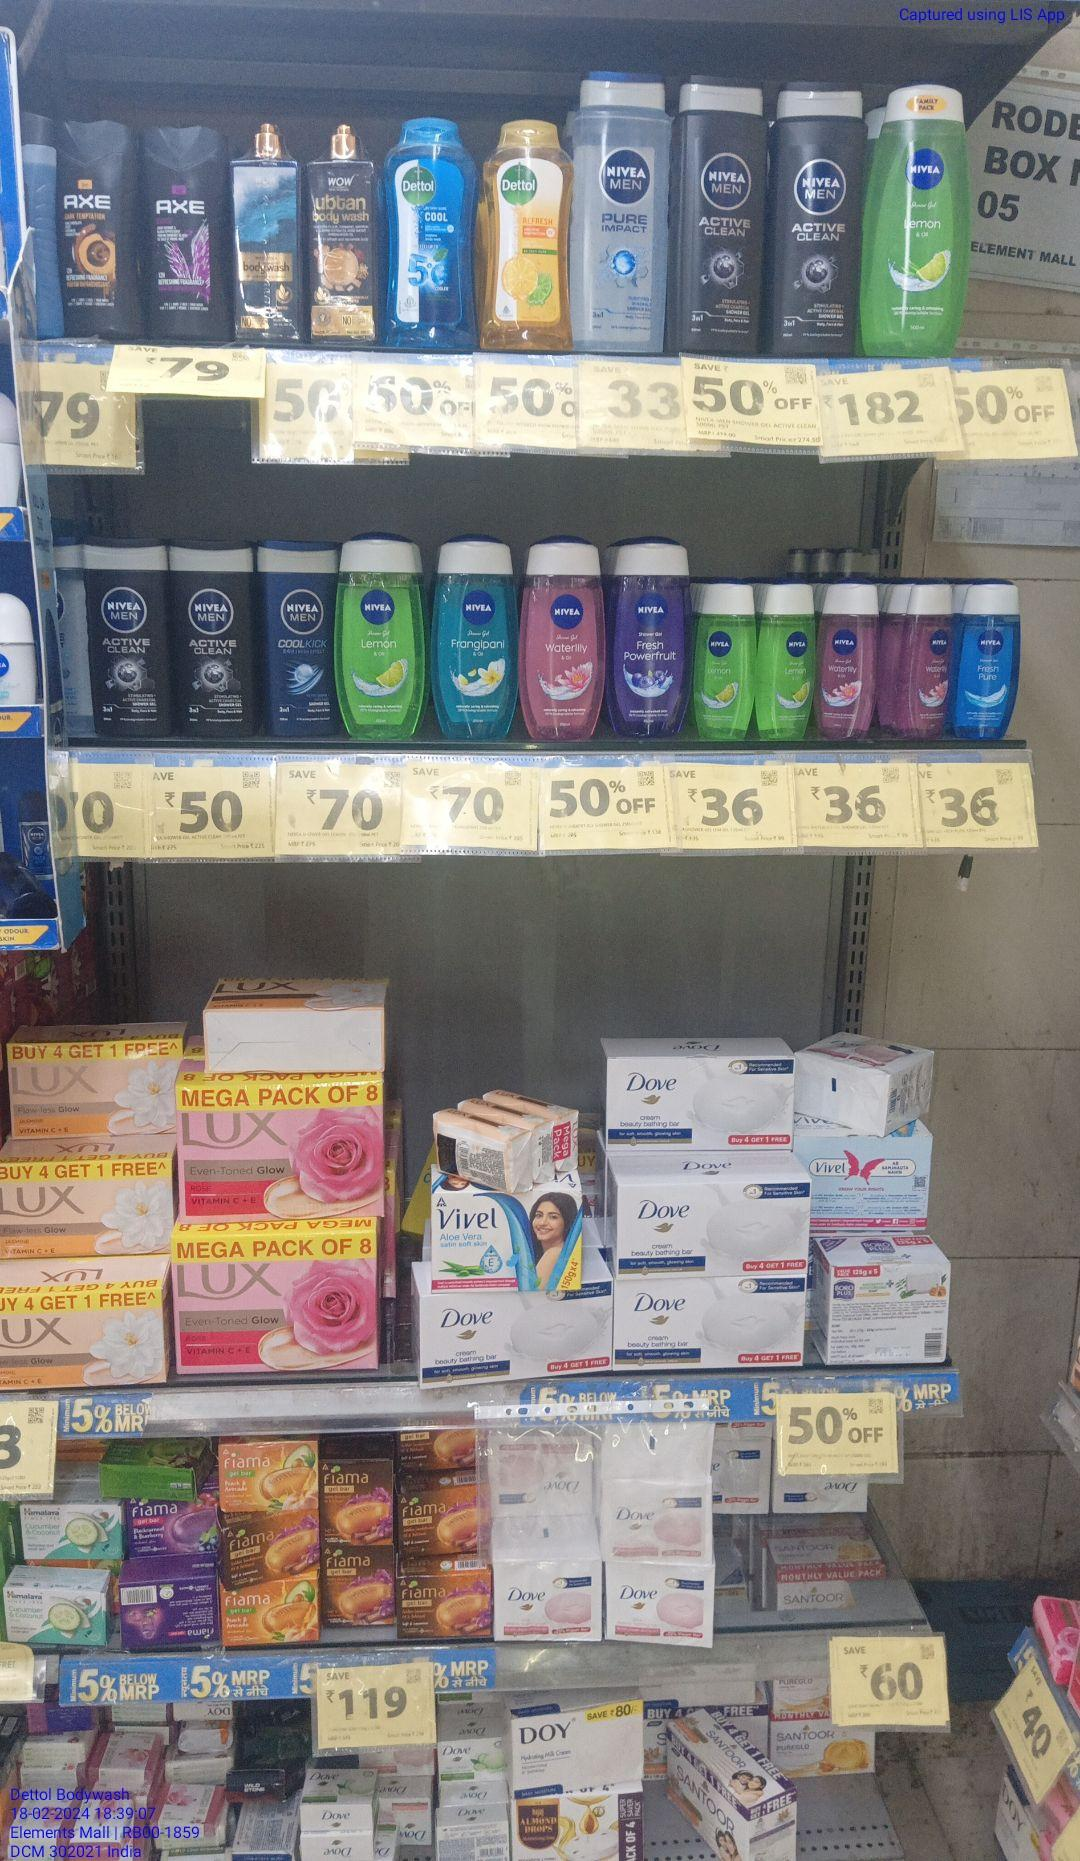Dettol_Bodywash_Cool: (387, 116, 473, 347)
Dettol_Bodywash_Refresh: (485, 121, 568, 351)
Nivea_Shower_Gel_Frangipani_and_Oil_250ML: (431, 533, 514, 736)
Nivea_Shower_Gel_Lemon_and_Oil_250ML: (337, 531, 424, 731)
